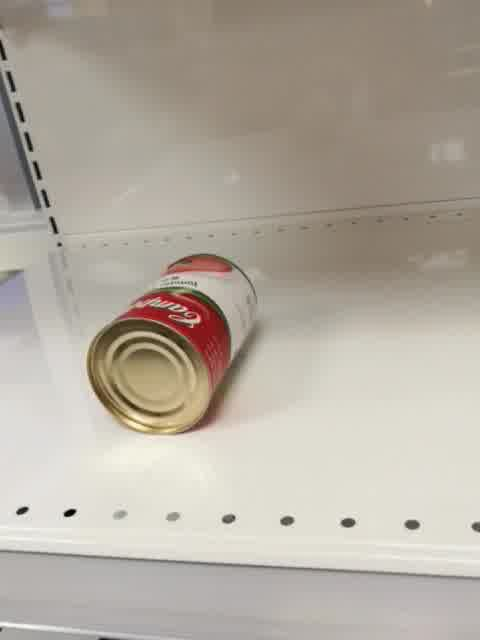tomatosoup: (85, 252, 259, 439)
